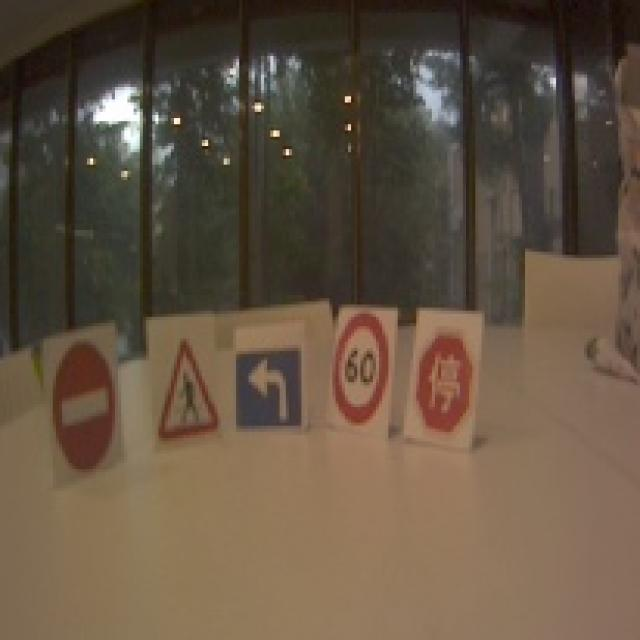DoNotEnterSign: (50, 344, 116, 474)
